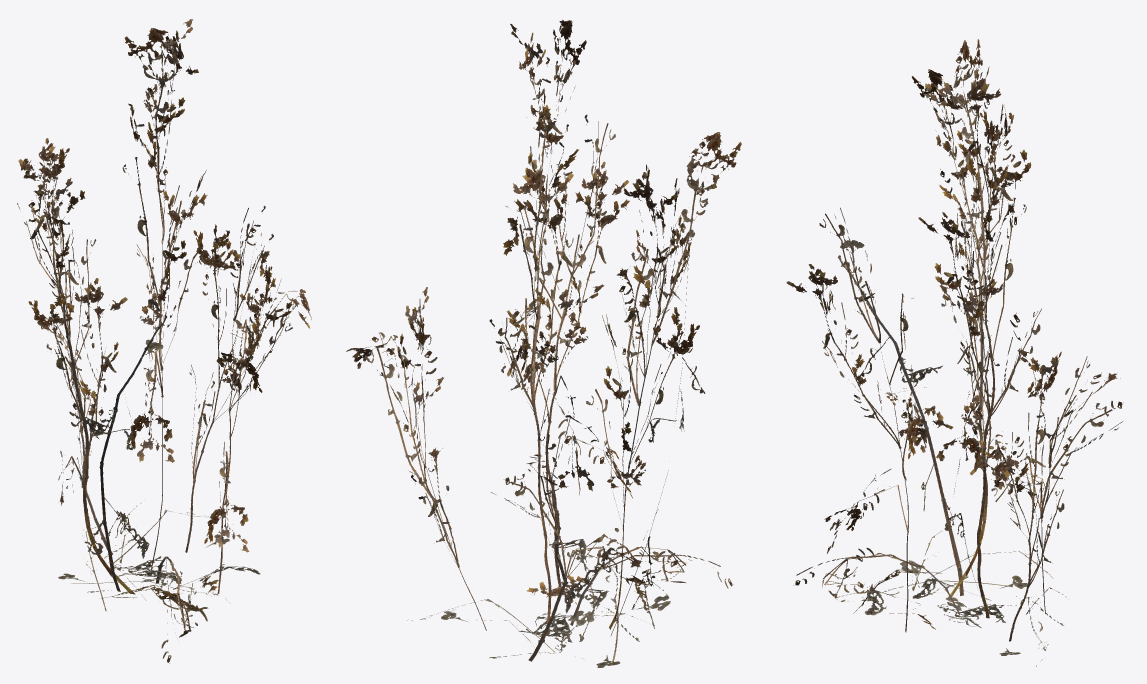
File: desert_reed_1_2.FBX
3 renders of one model, left to right at view 1: azimuth 30°, elevation 25°; view 2: azimuth 150°, elevation 25°; view 3: azimuth 270°, elevation 25°, orthographic. The views are drawn at different scales.
Visible parts, largest first — view 1: desert_reed_1_2; view 2: desert_reed_1_2; view 3: desert_reed_1_2.
Boxes of the visible parts, box(x1,y1,x2,y2) form: desert_reed_1_2: box(17, 19, 311, 663); desert_reed_1_2: box(346, 20, 741, 667); desert_reed_1_2: box(786, 39, 1123, 666).
Size of the model in its own units: 38.22 by 66.87 by 35.56.
1 material, 1 textured.
